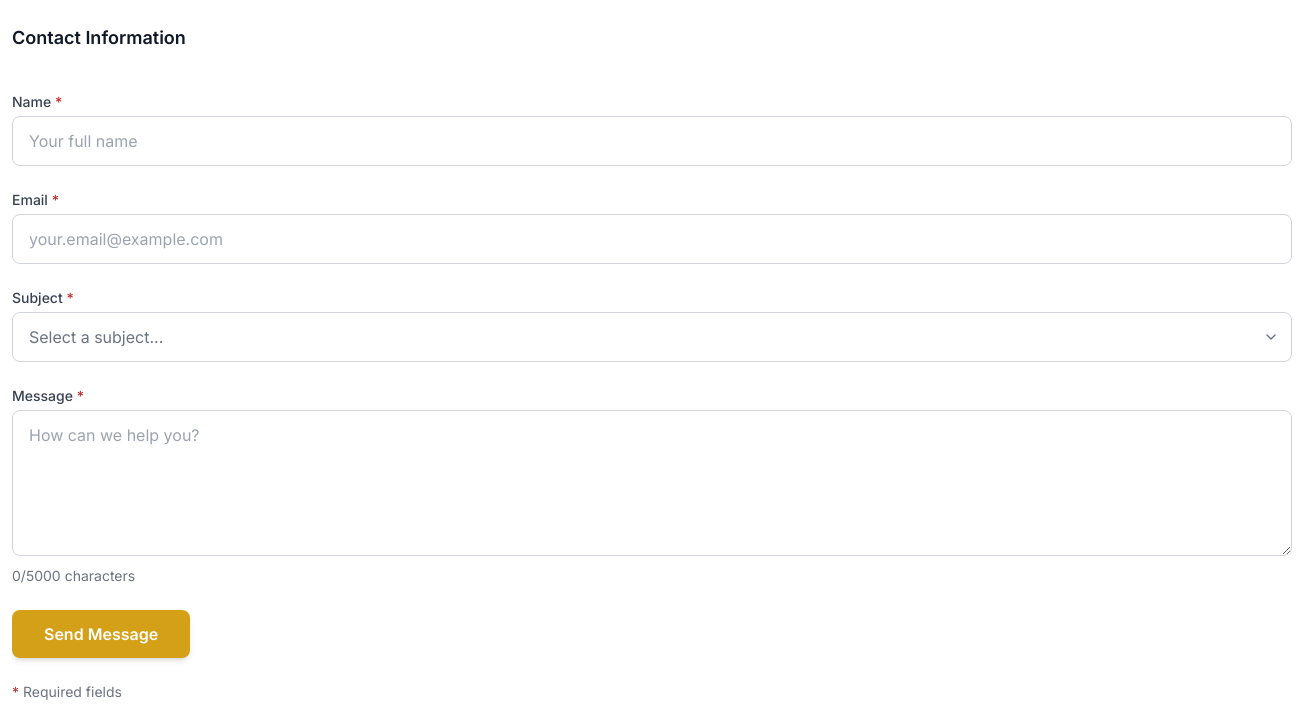
it: Contact Page › Client-Side Validation › shows error for empty message
# Focus and blur to trigger validation
Click the text box labelled "Message *": (652, 483) [12,410,1292,556]
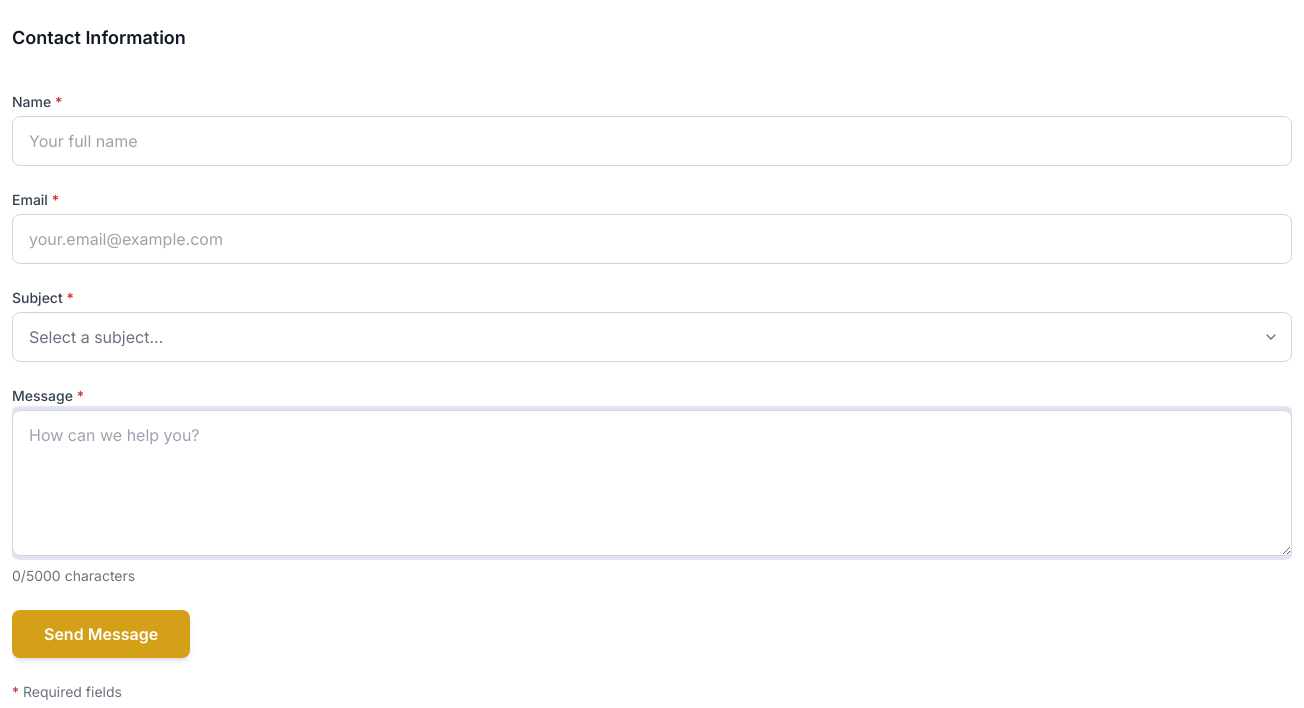
Press Tab
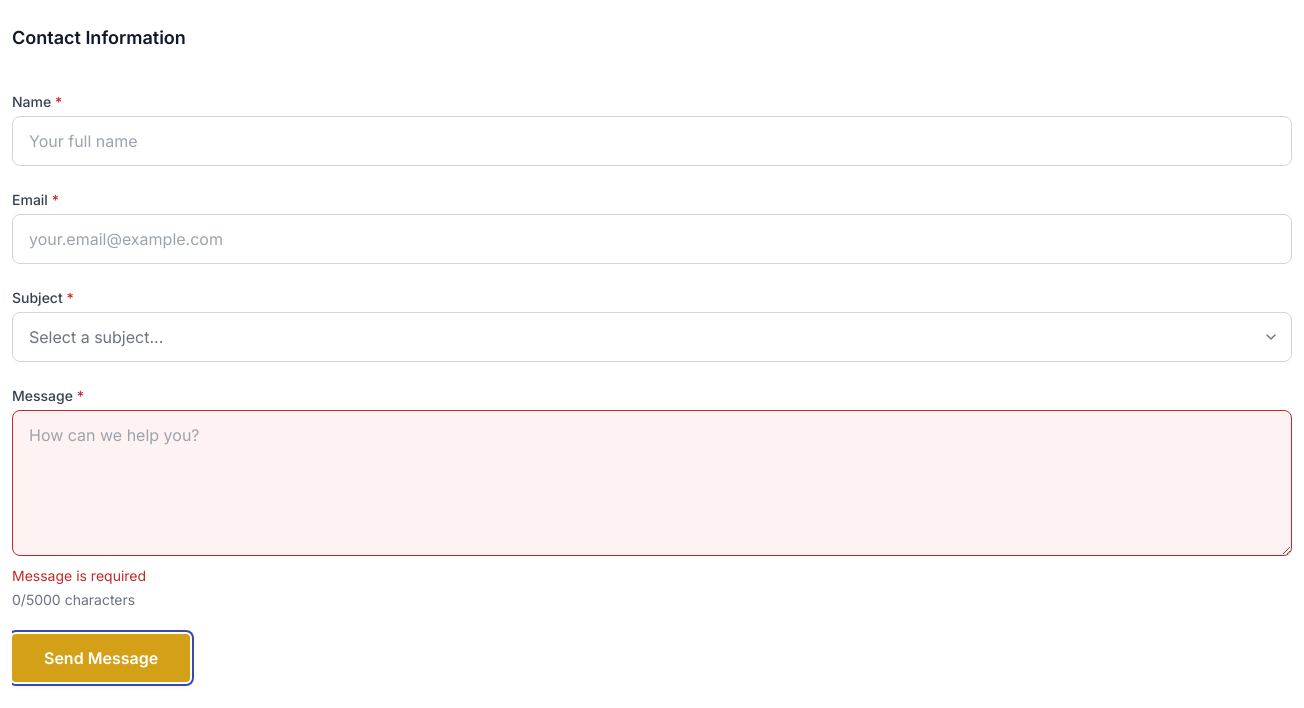
Now the text "Message is required" is shown, box [12,567,146,584]
